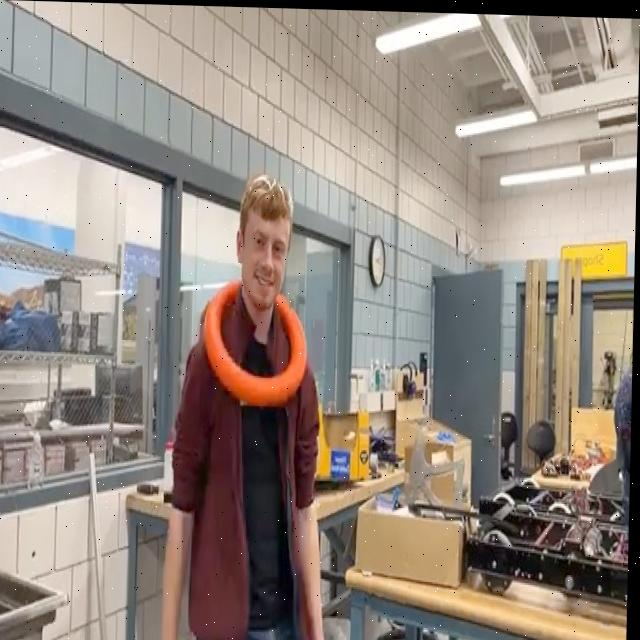note: (201, 275, 312, 411)
